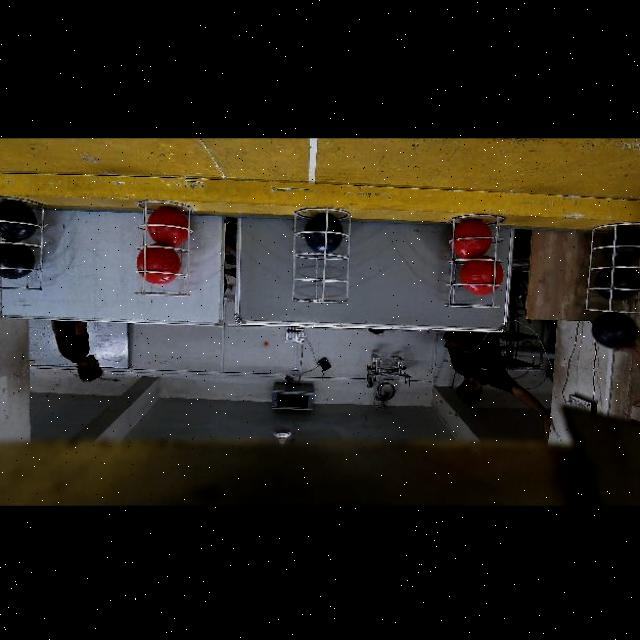P: (304, 214, 344, 253), (0, 200, 37, 241), (595, 267, 640, 300), (601, 228, 640, 266), (0, 244, 35, 279)
R: (147, 206, 189, 245), (137, 247, 180, 284), (453, 218, 492, 257), (461, 258, 503, 294)
S: (292, 204, 350, 306), (584, 222, 640, 316), (139, 200, 191, 300), (450, 213, 500, 309), (1, 205, 52, 292)
